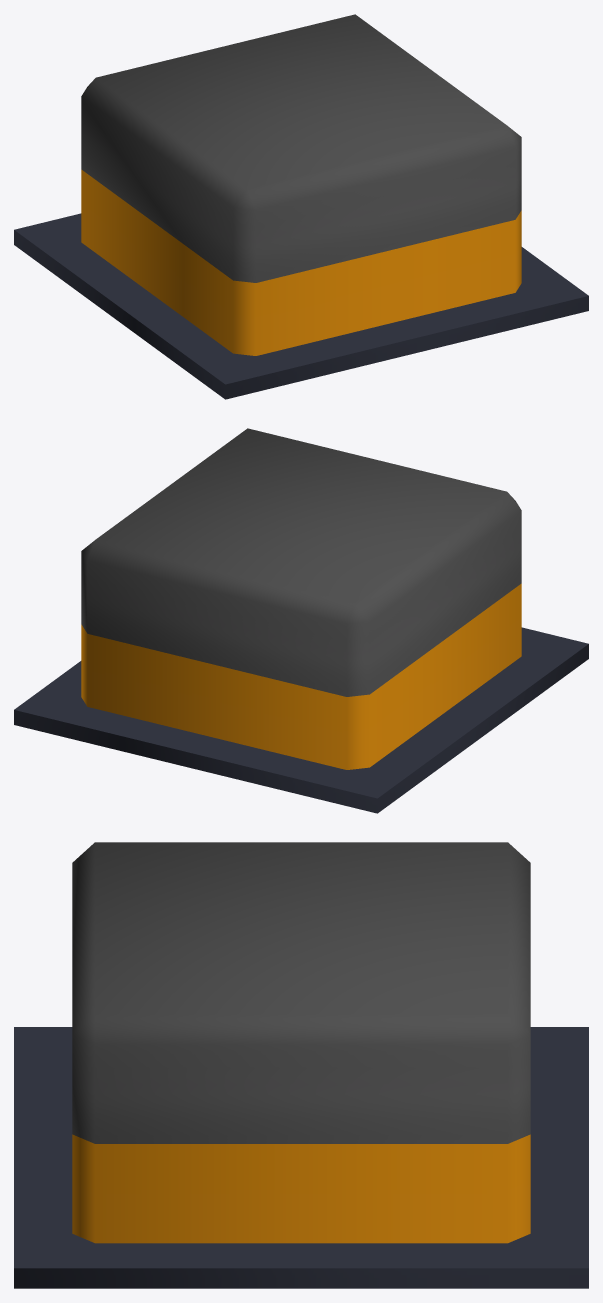
Rendered from RoofAdd_2_C_5.fbx.
3 views of the same model, one above another, from view 1: azimuth 30°, elevation 25°; view 2: azimuth 150°, elevation 25°; view 3: azimuth 270°, elevation 25° (orthographic). The views are drawn at different scales.
Visible parts, largest first — view 1: RoofAdd_2_C_5; view 2: RoofAdd_2_C_5; view 3: RoofAdd_2_C_5.
Boxes of the visible parts, x1=… form: RoofAdd_2_C_5: x1=14, y1=14, x2=588, y2=399; RoofAdd_2_C_5: x1=14, y1=428, x2=588, y2=813; RoofAdd_2_C_5: x1=14, y1=842, x2=588, y2=1288.
Size of the model in its own units: 160 by 74.17 by 161.
